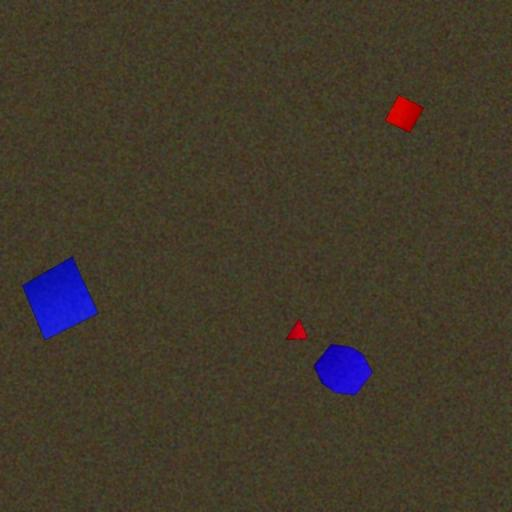BLUE_SQUARE: (22, 255, 99, 341)
RED_SQUARE: (385, 94, 425, 134)
